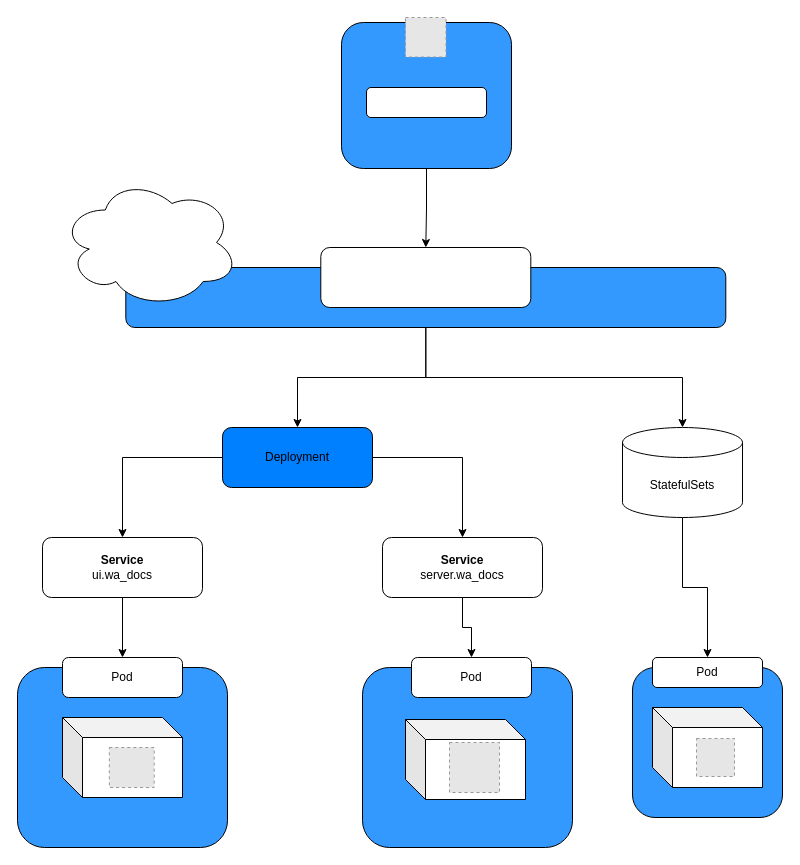
Some shapes in this 800 by 865 pixel diagram are drawn without their labels. Grey dashed boxes stand in for pictures. The shapes that lost their labels are listed below. From the top down, each one's centre as x and y in pixels, then its label:
At pixel 426 102: "Node".
At pixel 149 242: "RBAC Role ADMIN e DEV".
At pixel 425 277: "Namespace wa_docs".
